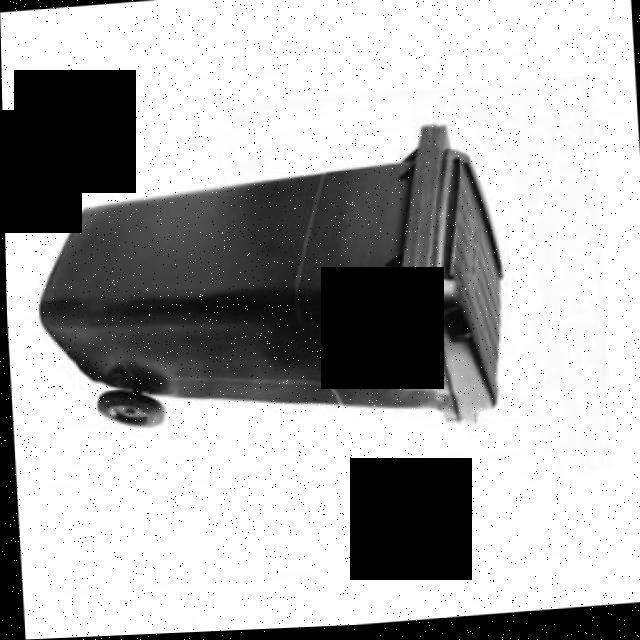bin: (22, 112, 520, 471)
